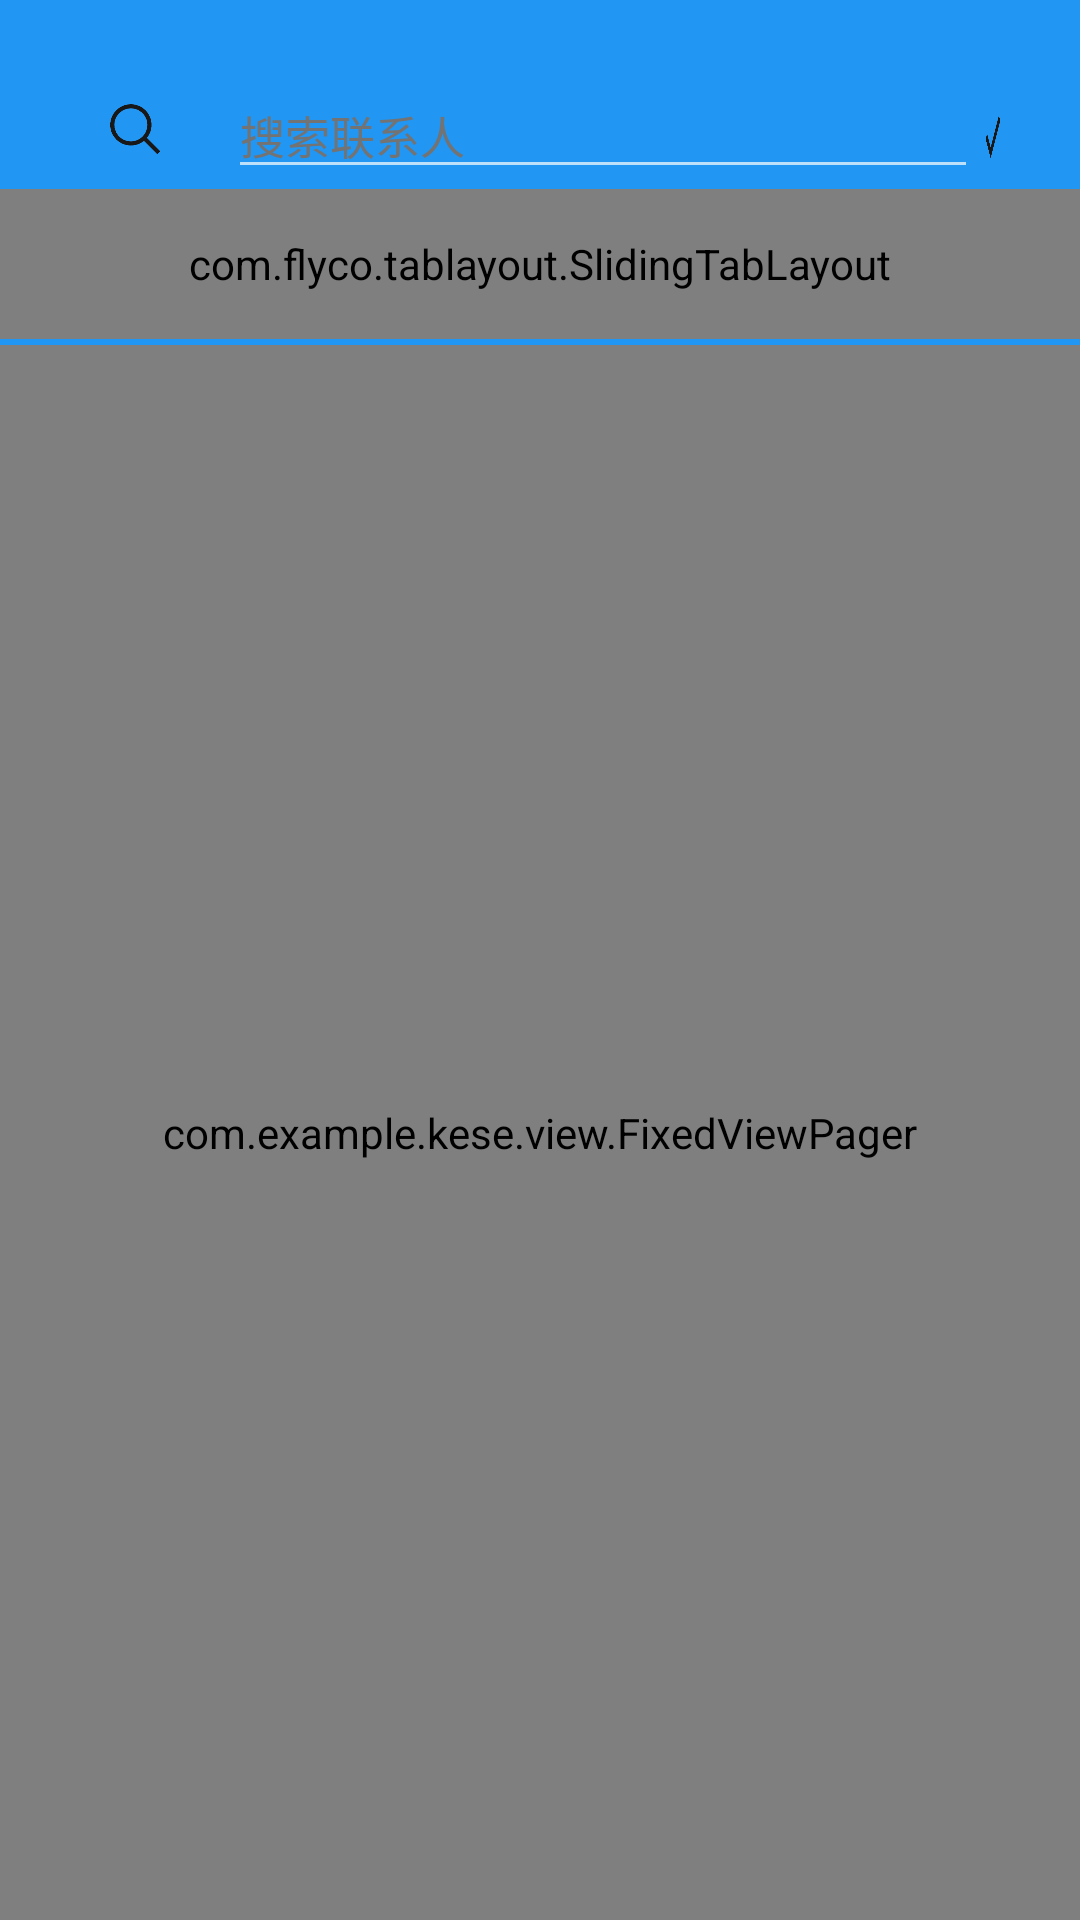

Icons on this 1080px x 1920px Android screen, each with its box as (x1, y1, x2, y2):
comfirm: (986, 117, 1000, 158)
search: (110, 104, 160, 154)
